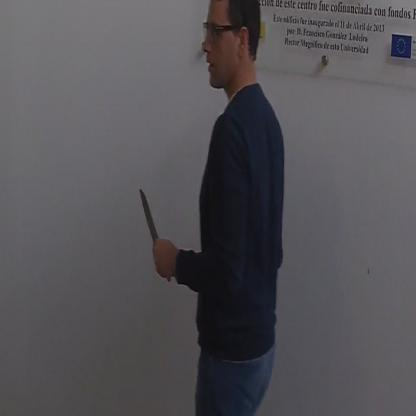knife: (137, 183, 172, 286)
